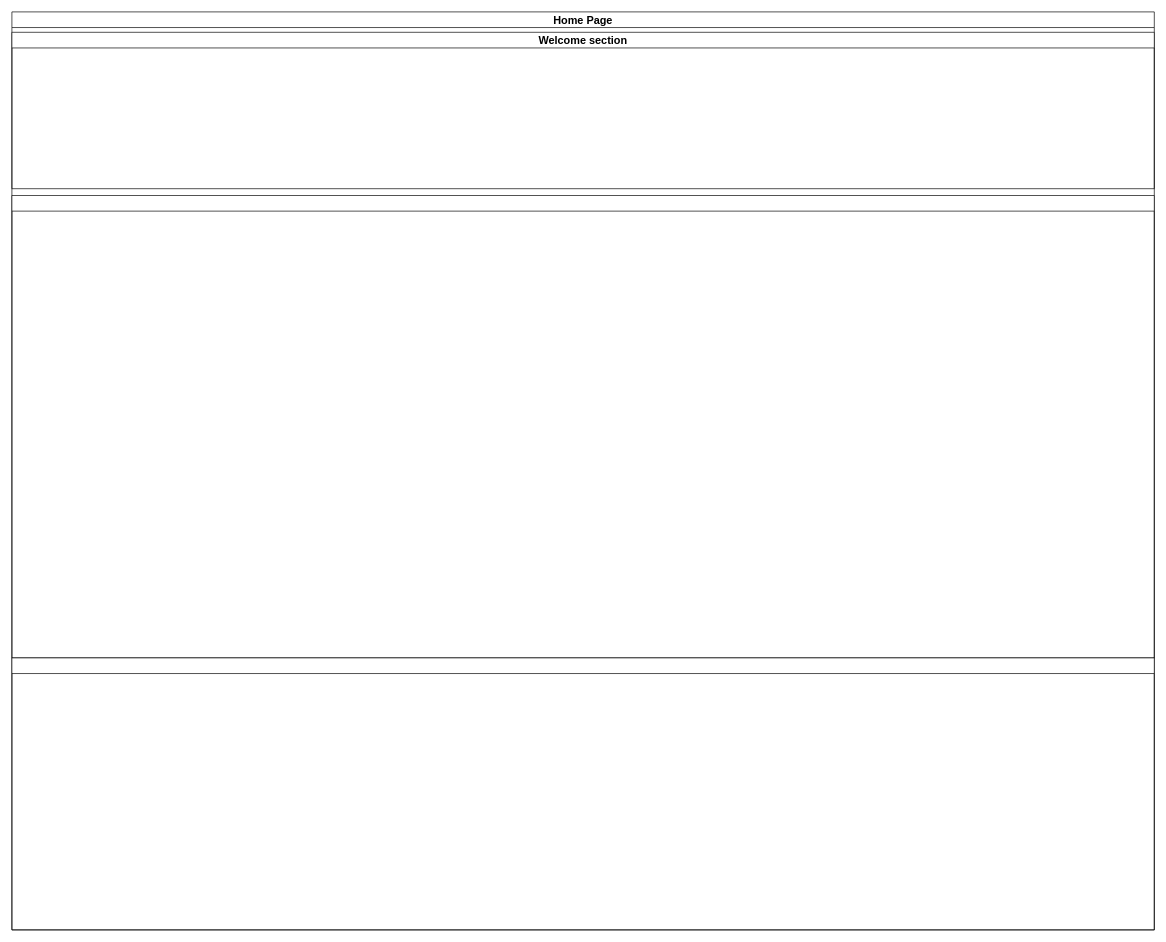
The diagram is 1166 pixels wide and 942 high, and some of its shapes have lost their labels. The shapes that lost their labels are listed below. From the top down, each one's box as (x1, y1, x2, y2) in pixels, then its label:
(11, 195, 1154, 658): Catalog section
(11, 657, 1154, 930): Information section
